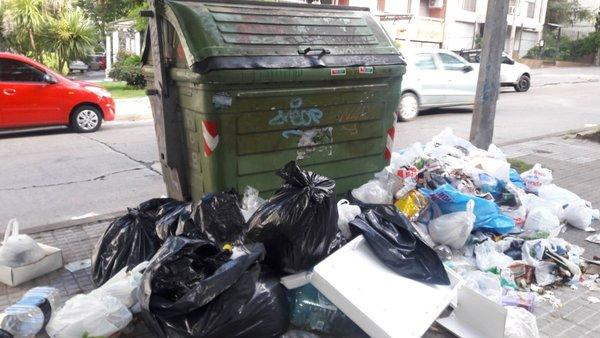Dechets: (126, 198, 338, 337), (310, 236, 464, 337), (395, 131, 527, 248), (347, 197, 450, 285), (258, 161, 337, 271), (446, 234, 584, 292), (45, 262, 149, 337), (0, 260, 90, 337), (437, 270, 539, 337), (92, 198, 168, 287), (521, 163, 599, 243), (505, 274, 599, 337), (0, 218, 63, 305), (155, 190, 247, 245), (351, 149, 418, 203), (535, 288, 599, 337), (289, 283, 342, 333), (522, 185, 563, 237), (424, 301, 475, 337), (293, 288, 335, 328), (113, 321, 153, 337)
Trash: (141, 0, 404, 202)
